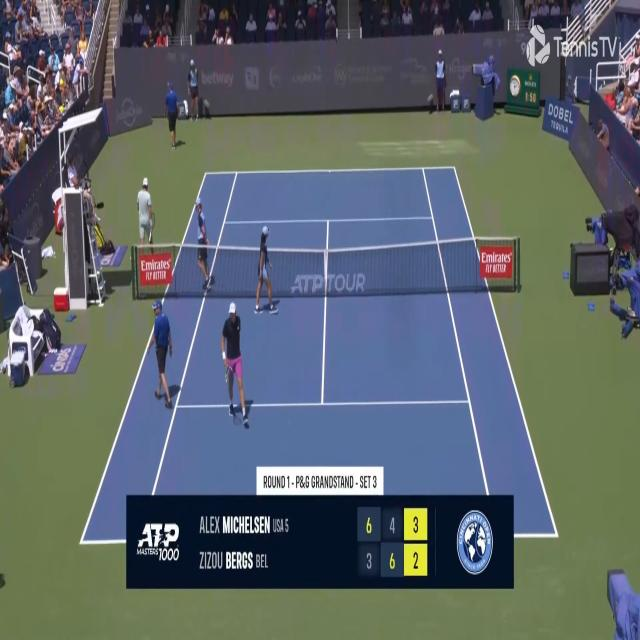tennis-player: (220, 298, 251, 429), (139, 176, 156, 243)
